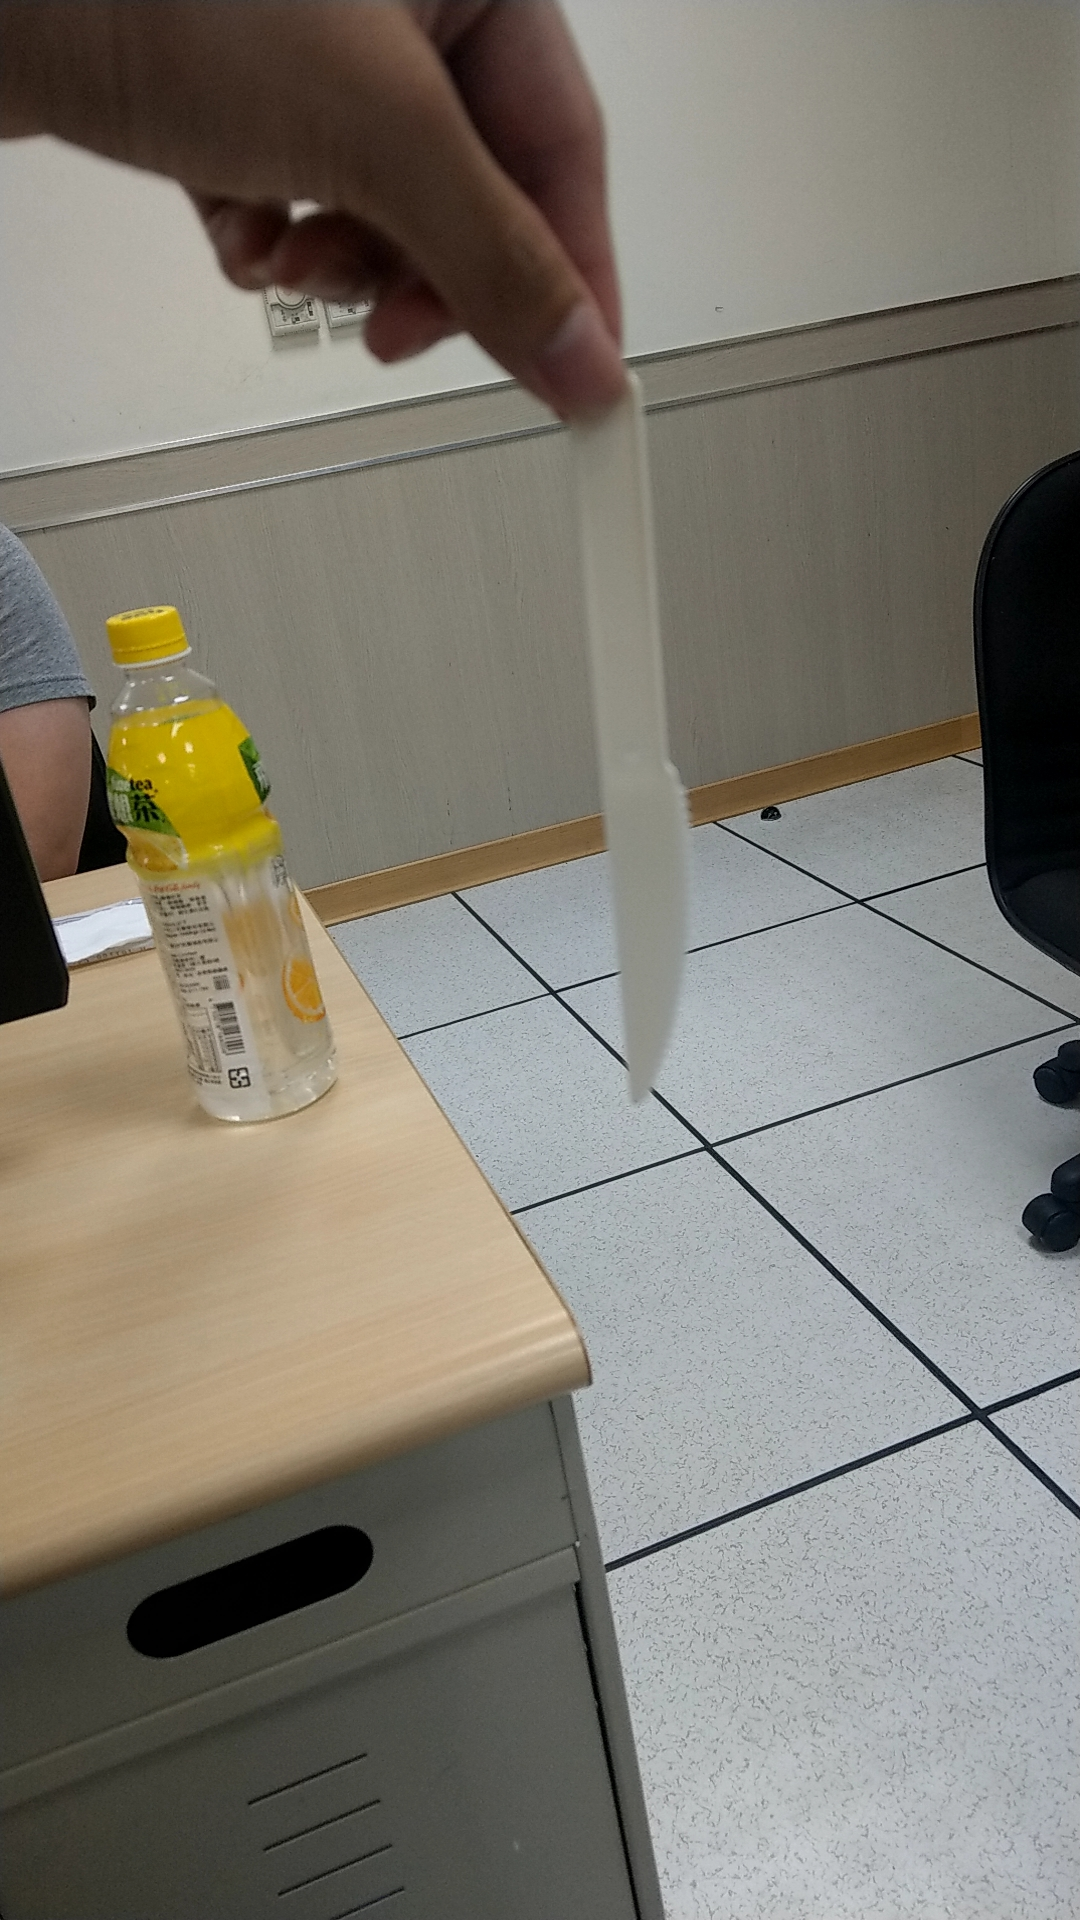knife: (525, 368, 733, 1118)
